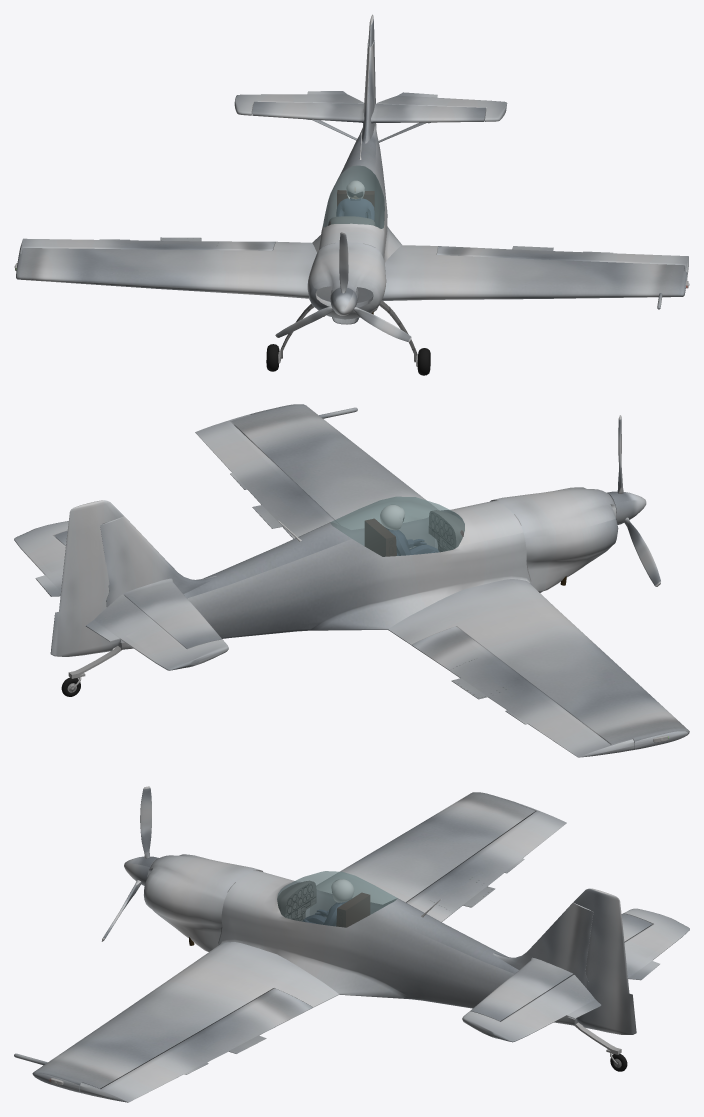
Rendered from aaron.glb.
The picture shows the model from 3 angles, top to bottom: view 1: azimuth 30°, elevation 25°; view 2: azimuth 150°, elevation 25°; view 3: azimuth 270°, elevation 25°; orthographic projection. The views are drawn at different scales.
Parts seen in each view (by area): view 1: krilo-FACES, krilo01-FACES, fuzel-FACES, kapot-FACES, fonar01-FACES, fonar-FACES, eleron01-FACES, eleron-FACES, gor_oper02-FACES, gor_oper03-FACES, rul_vis-FACES, rul_vis01-FACES (+4 smaller); view 2: fuzel-FACES, krilo01-FACES, krilo-FACES, eleron01-FACES, kapot-FACES, rul_napr-FACES, eleron-FACES, fonar01-FACES, fonar-FACES, rul_vis01-FACES, kil-FACES, gor_oper03-FACES (+6 smaller); view 3: fuzel-FACES, krilo-FACES, krilo01-FACES, eleron-FACES, kapot-FACES, rul_napr-FACES, eleron01-FACES, fonar01-FACES, fonar-FACES, rul_vis-FACES, kil-FACES, gor_oper02-FACES (+7 smaller).
Boxes of the visible parts, x1,y1,x2,y2 form: krilo-FACES: (381,245,687,300); krilo01-FACES: (16,241,316,298); fuzel-FACES: (312,123,401,263); kapot-FACES: (307,242,386,319); fonar01-FACES: (323,166,384,228); fonar-FACES: (323,166,384,228); eleron01-FACES: (19,237,275,254); eleron-FACES: (437,246,688,274); gor_oper02-FACES: (371,103,486,123); gor_oper03-FACES: (252,101,364,122); rul_vis-FACES: (376,92,507,121); rul_vis01-FACES: (234,91,364,115); fuzel-FACES: (118,500,532,649); krilo01-FACES: (388,579,689,749); krilo-FACES: (231,404,437,529); eleron01-FACES: (411,626,634,757); kapot-FACES: (490,487,618,592); rul_napr-FACES: (50,500,123,656); eleron-FACES: (195,414,339,538); fonar01-FACES: (331,497,464,556); fonar-FACES: (331,497,464,556); rul_vis01-FACES: (86,594,228,670); kil-FACES: (100,516,217,640); gor_oper03-FACES: (123,578,222,648); fuzel-FACES: (218,870,577,1025); krilo-FACES: (32,942,339,1092); krilo01-FACES: (316,792,534,904); eleron-FACES: (80,988,312,1102); kapot-FACES: (144,854,262,951); rul_napr-FACES: (573,888,636,1034); eleron01-FACES: (406,803,566,922); fonar01-FACES: (277,871,397,927); fonar-FACES: (277,871,397,926); rul_vis-FACES: (462,975,601,1042); kil-FACES: (493,902,593,1016); gor_oper02-FACES: (470,957,572,1021).
Bounding box in the file's own units: 7.79 × 2.74 × 7.26.
48 materials, 26 textured.
